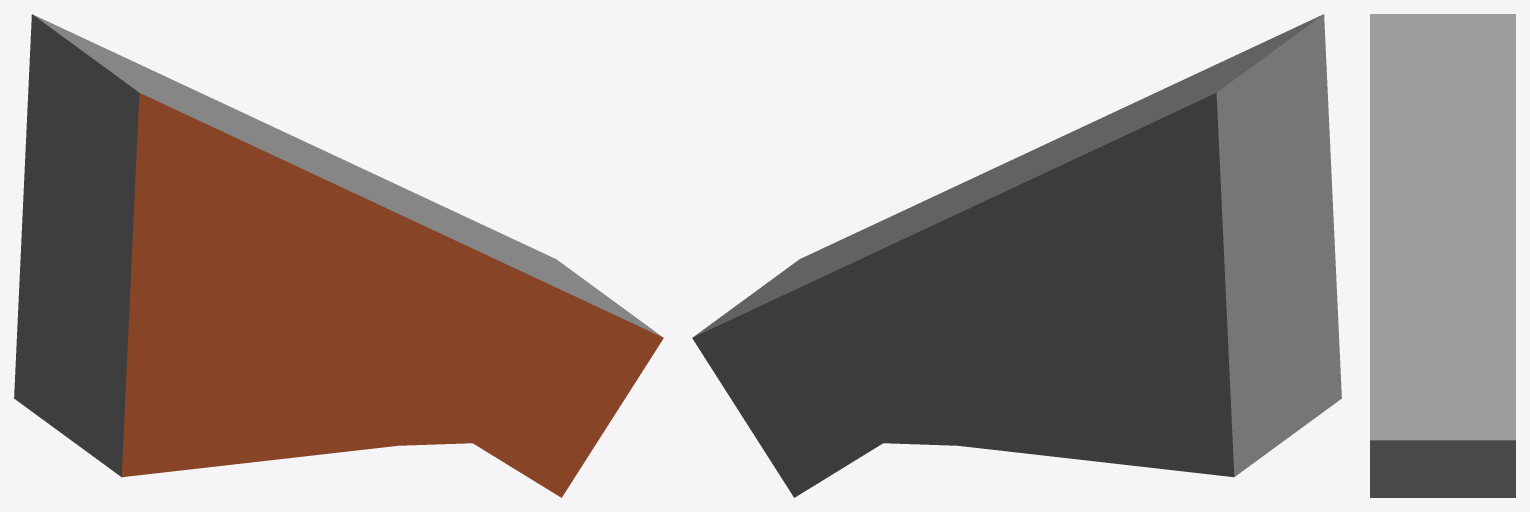
The model's file is construction_4237_assumed_A_Casa_h6m.obj.
3 renders of one model, left to right at view 1: azimuth 30°, elevation 25°; view 2: azimuth 150°, elevation 25°; view 3: azimuth 270°, elevation 25°, orthographic. The views are drawn at different scales.
Parts seen in each view (by area): view 1: construction_4237_assumed_A_Casa; view 2: construction_4237_assumed_A_Casa; view 3: construction_4237_assumed_A_Casa.
Part boxes in pixels (<box>): construction_4237_assumed_A_Casa: <box>14,14,663,497</box>; construction_4237_assumed_A_Casa: <box>692,14,1341,497</box>; construction_4237_assumed_A_Casa: <box>1370,14,1515,497</box>.
Size of the model in its own units: 17.46 by 15.64 by 6.
